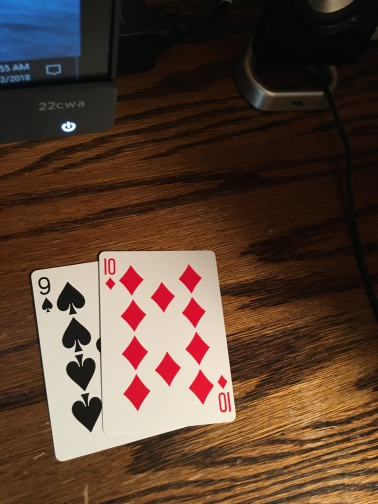nine: (29, 262, 108, 459)
ten: (99, 249, 238, 425)
